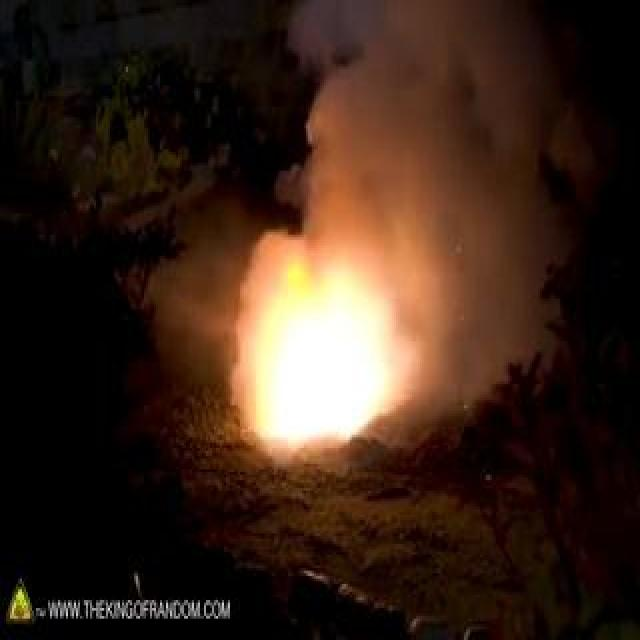Fire: (180, 190, 318, 354)
